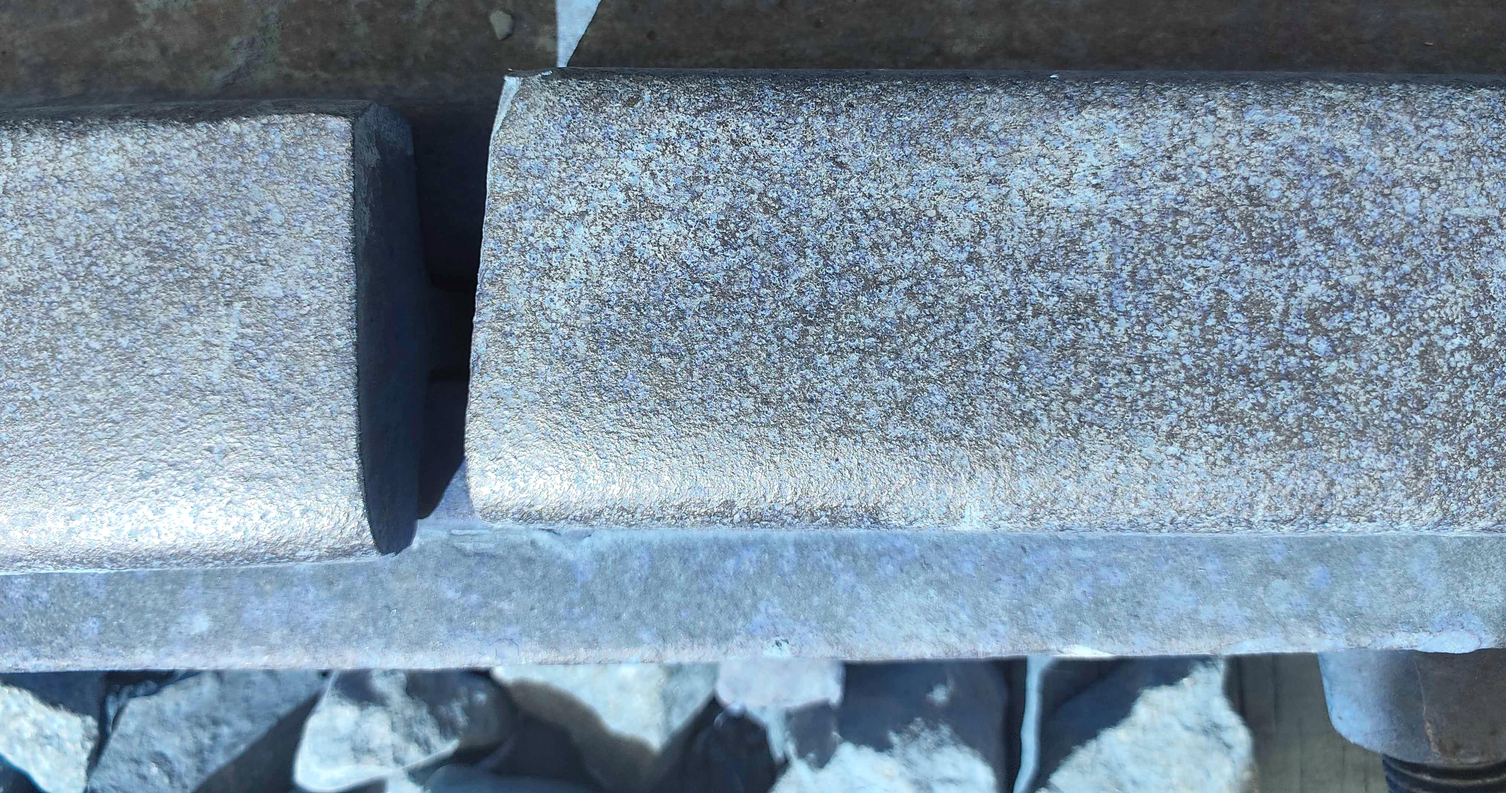duan lie: (326, 42, 536, 597)
